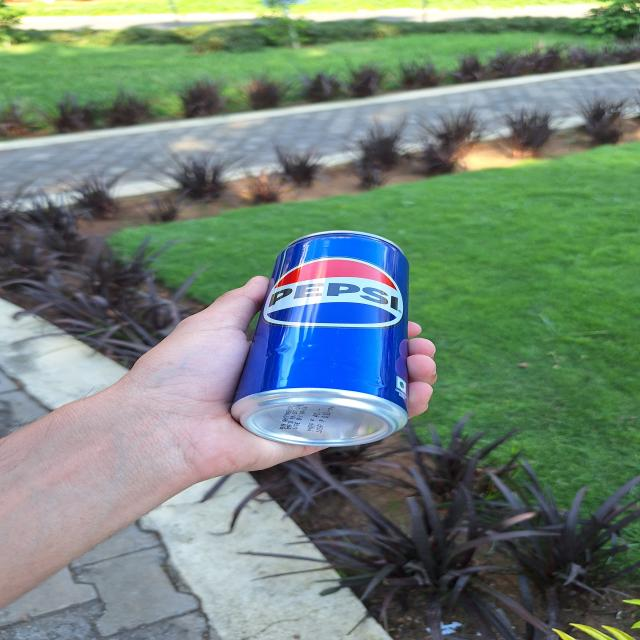Pepsi: (250, 234, 412, 436)
